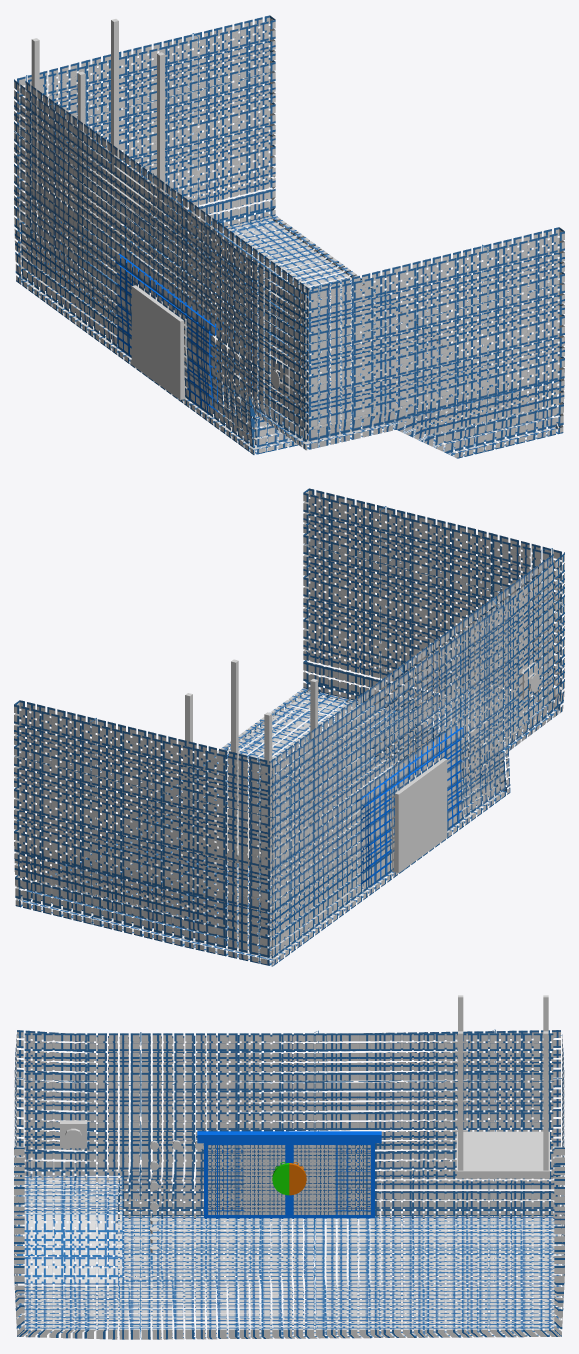
The model's file is Loca1.fbx.
3 renders of one model, top to bottom at view 1: azimuth 30°, elevation 25°; view 2: azimuth 150°, elevation 25°; view 3: azimuth 270°, elevation 25°, orthographic. The views are drawn at different scales.
Parts seen in each view (by area): view 1: Plane, Cube.002, Cube.007, Cube, Cube.006, Cube.001, Cube.005; view 2: Plane, Cube.002, Cube.007, Cube.001, Cube.006, Cube.005, Cube; view 3: Plane, Cube.001, Cube, Cube.006, Cube.002, Cube.005, Cube.007, Cube.003, Cylinder, Cylinder.001.
Part boxes in pixels (x1=…): Plane: x1=14, y1=15, x2=564, y2=458; Cube.002: x1=131, y1=284, x2=187, y2=399; Cube.007: x1=31, y1=19, x2=164, y2=219; Cube: x1=163, y1=298, x2=218, y2=414; Cube.006: x1=30, y1=168, x2=166, y2=228; Cube.001: x1=117, y1=264, x2=163, y2=357; Cube.005: x1=115, y1=253, x2=221, y2=335; Plane: x1=14, y1=488, x2=564, y2=966; Cube.002: x1=391, y1=757, x2=447, y2=872; Cube.007: x1=185, y1=659, x2=317, y2=861; Cube.001: x1=360, y1=771, x2=415, y2=887; Cube.006: x1=186, y1=808, x2=317, y2=870; Cube.005: x1=356, y1=726, x2=463, y2=808; Cube: x1=414, y1=738, x2=461, y2=830; Plane: x1=14, y1=1029, x2=564, y2=1339; Cube.001: x1=289, y1=1143, x2=374, y2=1218; Cube: x1=204, y1=1143, x2=289, y2=1218; Cube.006: x1=456, y1=1131, x2=549, y2=1178; Cube.002: x1=244, y1=1145, x2=334, y2=1214; Cube.005: x1=197, y1=1131, x2=381, y2=1143; Cube.007: x1=458, y1=995, x2=548, y2=1170; Cube.003: x1=60, y1=1120, x2=86, y2=1148; Cylinder: x1=289, y1=1162, x2=306, y2=1195; Cylinder.001: x1=272, y1=1162, x2=289, y2=1195.
Size of the model in its own units: 1252 by 1138 by 2448.
